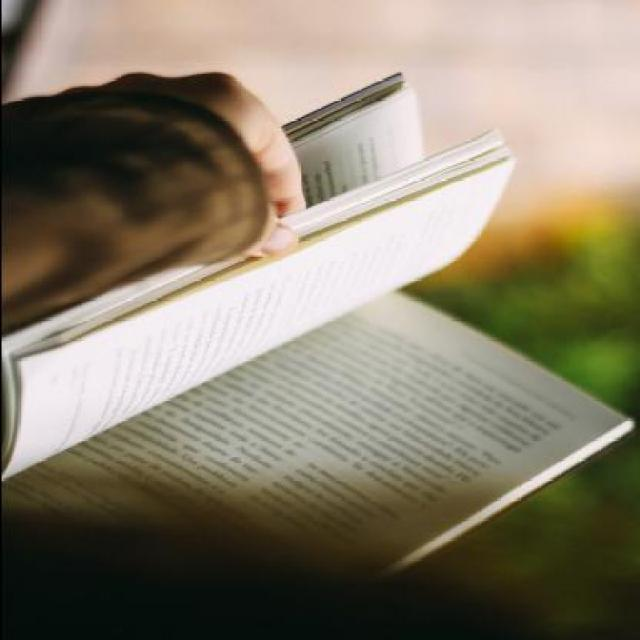book: (0, 73, 617, 611)
